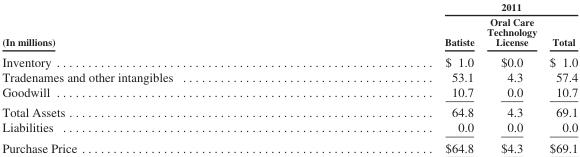table: (1, 0, 577, 154)
table column: (1, 0, 308, 154), (308, 0, 479, 154), (479, 0, 542, 154), (542, 0, 577, 154)
table column header: (1, 0, 577, 51)
table row: (1, 14, 577, 51), (1, 101, 577, 119), (1, 119, 577, 137), (1, 51, 577, 68), (1, 84, 577, 101), (1, 137, 577, 154), (1, 68, 577, 84), (1, 0, 577, 14)
table spanning cell: (1, 0, 308, 51), (308, 0, 577, 14)
